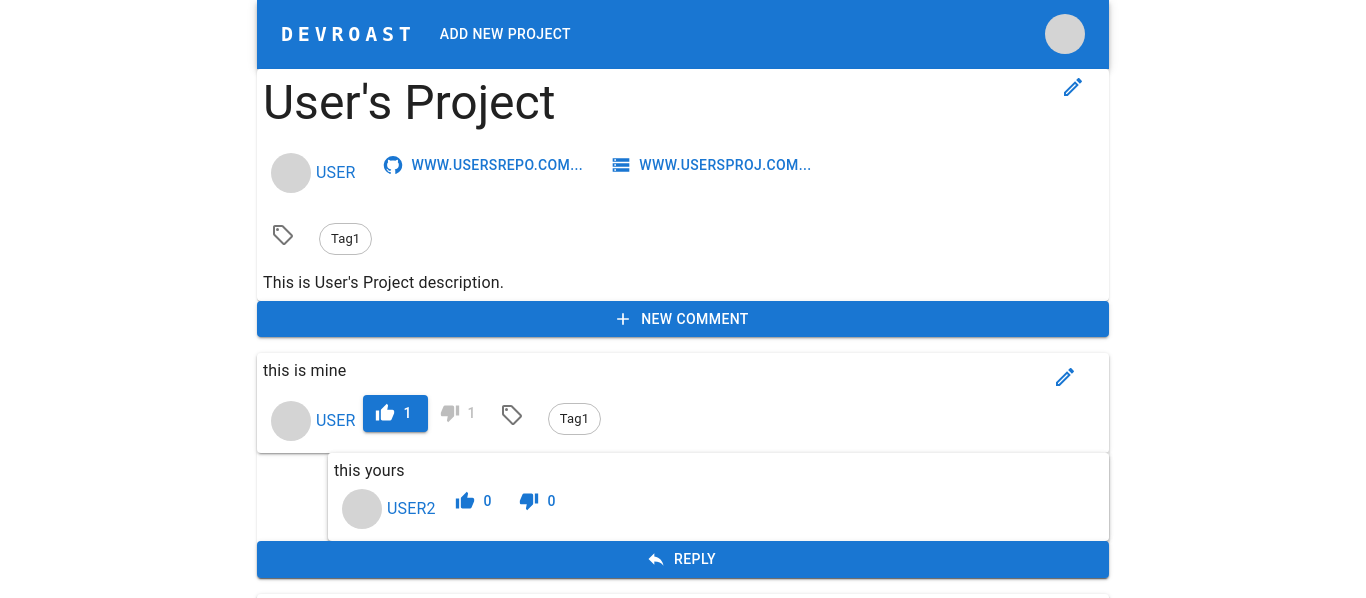
Scenario: Comment CRUD logged in › deletes a comment
Click the button with id "EditButton".
click(1065, 377)  # box [1033, 359, 1097, 395]
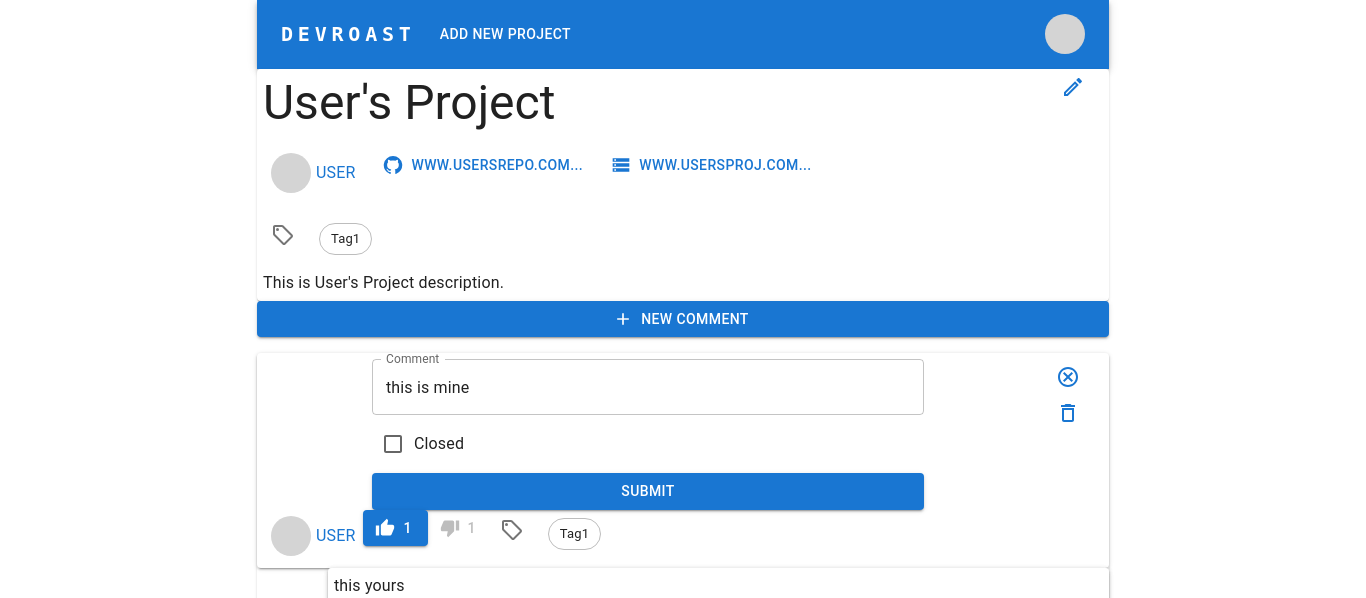
Expected: the button with id "DeleteButton" is shown
Click the button with id "DeleteButton".
click(1068, 413)  # box [1033, 395, 1103, 431]
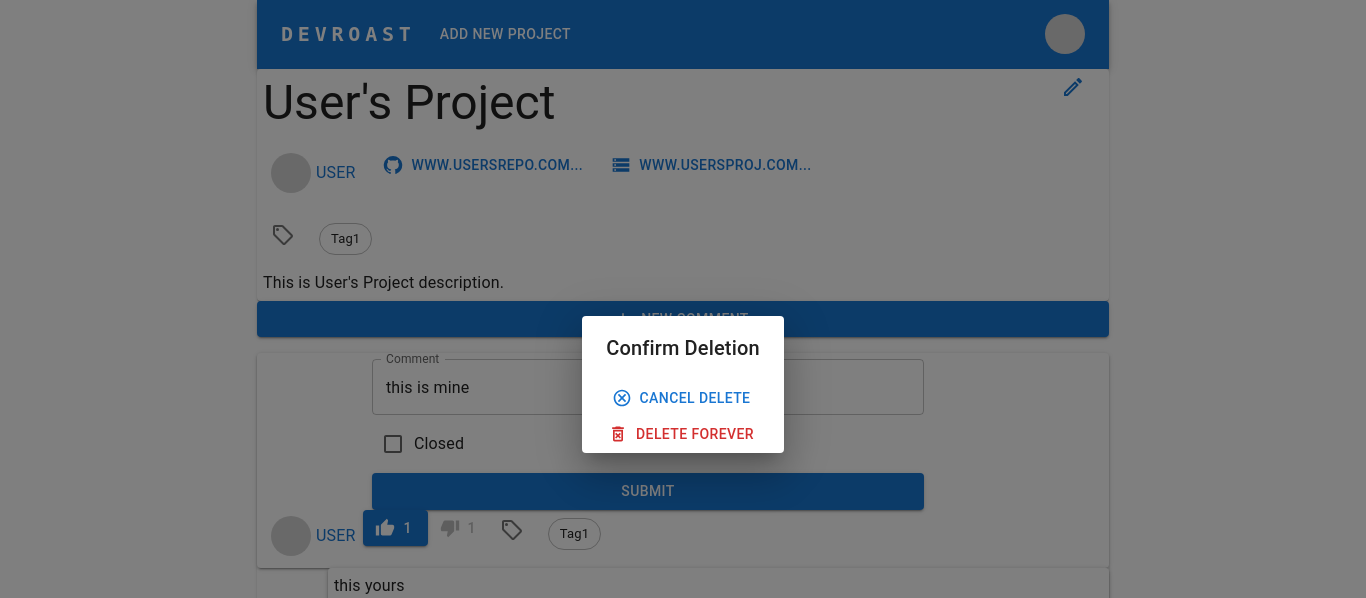
Expected: the element with id "DeleteConfirm" is shown, [582, 316, 784, 453]
